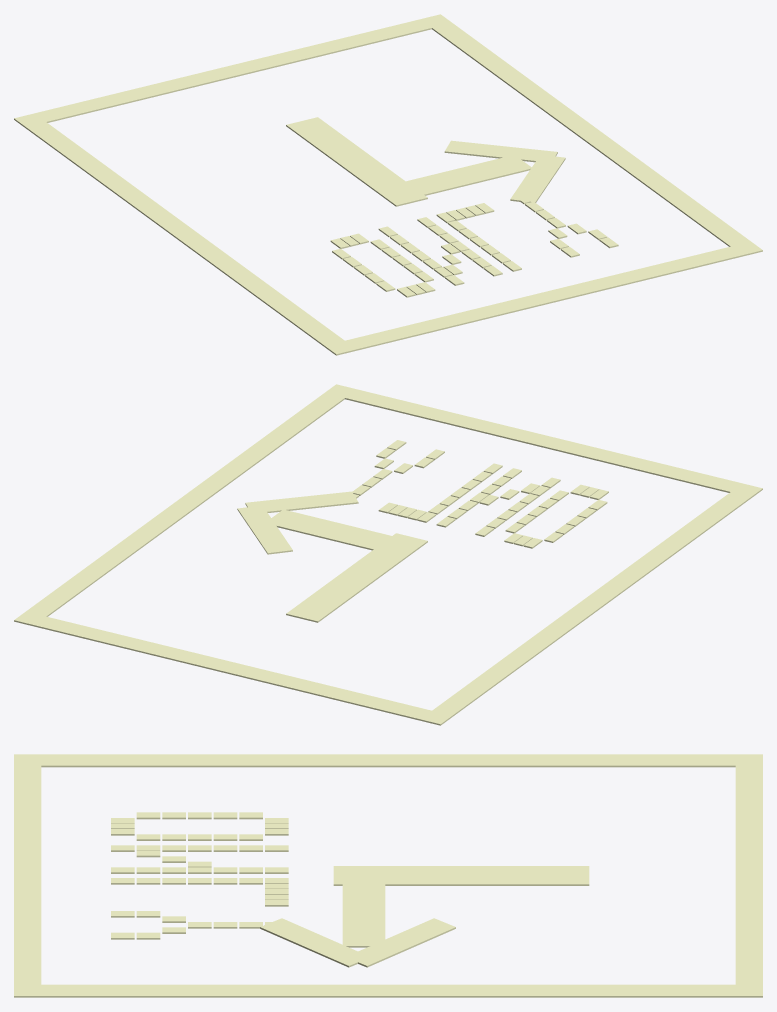
Rendered from marking_turn_right_only_box_white.glb.
The picture shows the model from 3 angles, top to bottom: view 1: azimuth 30°, elevation 25°; view 2: azimuth 150°, elevation 25°; view 3: azimuth 270°, elevation 25°; orthographic projection. The views are drawn at different scales.
Parts seen in each view (by area): view 1: turn_right_only_box_left, turn_right_only_box_right, turn_right_only_box_bottom, turn_right_only_box_top, turn_right_only_box_arrow_shaft, turn_right_only_box_arrow_arm, turn_right_only_box_arrow_head_upper, turn_right_only_box_arrow_head_lower; view 2: turn_right_only_box_left, turn_right_only_box_right, turn_right_only_box_top, turn_right_only_box_bottom, turn_right_only_box_arrow_shaft, turn_right_only_box_arrow_arm, turn_right_only_box_arrow_head_lower, turn_right_only_box_arrow_head_upper; view 3: turn_right_only_box_left, turn_right_only_box_right, turn_right_only_box_top, turn_right_only_box_bottom, turn_right_only_box_arrow_shaft, turn_right_only_box_arrow_arm, turn_right_only_box_arrow_head_upper, turn_right_only_box_arrow_head_lower.
Part boxes in pixels (left/top/right/bottom): turn_right_only_box_left: left=25, top=122, right=344, bottom=346; turn_right_only_box_right: left=432, top=23, right=750, bottom=246; turn_right_only_box_bottom: left=324, top=241, right=762, bottom=355; turn_right_only_box_top: left=14, top=14, right=451, bottom=127; turn_right_only_box_arrow_shaft: left=286, top=117, right=427, bottom=206; turn_right_only_box_arrow_arm: left=374, top=157, right=532, bottom=203; turn_right_only_box_arrow_head_upper: left=510, top=154, right=565, bottom=202; turn_right_only_box_arrow_head_lower: left=444, top=140, right=557, bottom=162; turn_right_only_box_left: left=432, top=492, right=751, bottom=716; turn_right_only_box_right: left=26, top=393, right=344, bottom=616; turn_right_only_box_top: left=14, top=611, right=452, bottom=725; turn_right_only_box_bottom: left=325, top=384, right=762, bottom=497; turn_right_only_box_arrow_shaft: left=286, top=533, right=427, bottom=622; turn_right_only_box_arrow_arm: left=265, top=509, right=423, bottom=556; turn_right_only_box_arrow_head_lower: left=237, top=505, right=292, bottom=554; turn_right_only_box_arrow_head_upper: left=245, top=491, right=358, bottom=513; turn_right_only_box_left: left=41, top=754, right=735, bottom=767; turn_right_only_box_right: left=41, top=984, right=735, bottom=997; turn_right_only_box_top: left=735, top=754, right=762, bottom=997; turn_right_only_box_bottom: left=14, top=754, right=41, bottom=997; turn_right_only_box_arrow_shaft: left=333, top=866, right=589, bottom=885; turn_right_only_box_arrow_arm: left=342, top=866, right=385, bottom=947; turn_right_only_box_arrow_head_upper: left=260, top=918, right=369, bottom=967; turn_right_only_box_arrow_head_lower: left=355, top=918, right=455, bottom=967.
Bounding box in the file's own units: 1.88 × 0.006 × 2.46.
